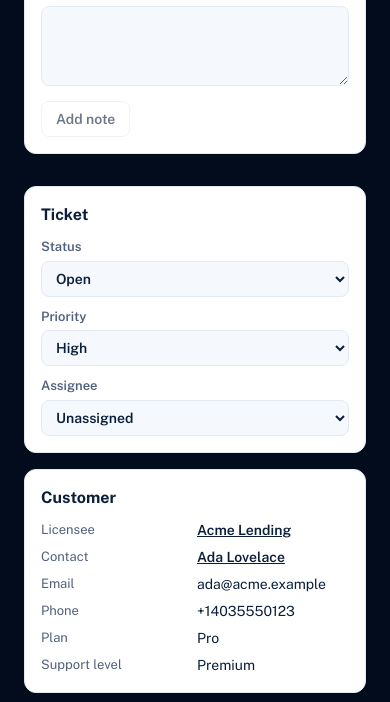
Test: a Keystone support ticket › assigns, changes status, replies by SMS and adds an internal note
(page scrolled)
Select "Kim Keystone" in the dropdown named "Ticket assignee": [195, 418] box x1=41 y1=400 x2=349 y2=436
(page scrolled)
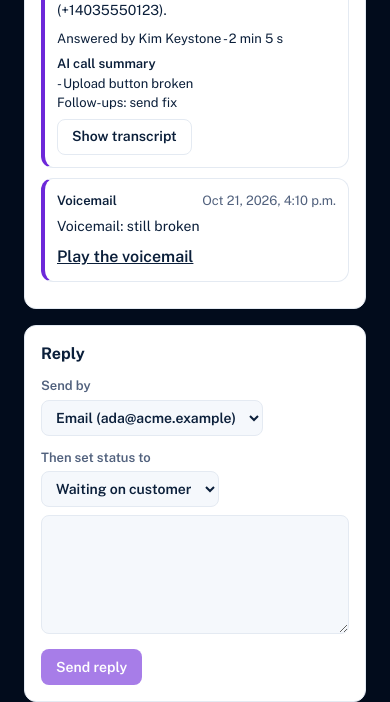
Select "SMS (+14035550123)" in the dropdown labelled "Send by": [152, 418] box x1=41 y1=400 x2=263 y2=436
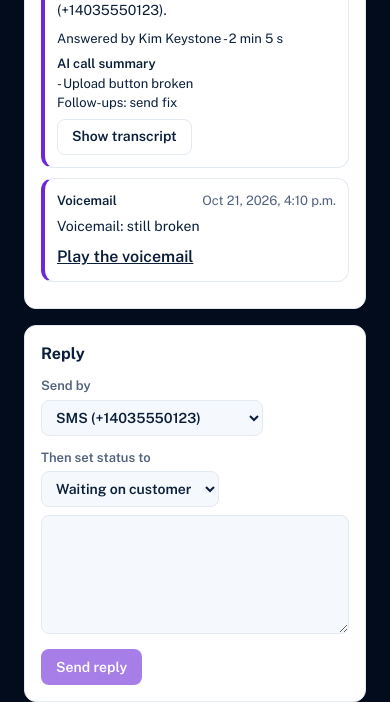
In the text box named "Reply": [195, 574] box x1=41 y1=515 x2=349 y2=634, type "Fixed - please try again"
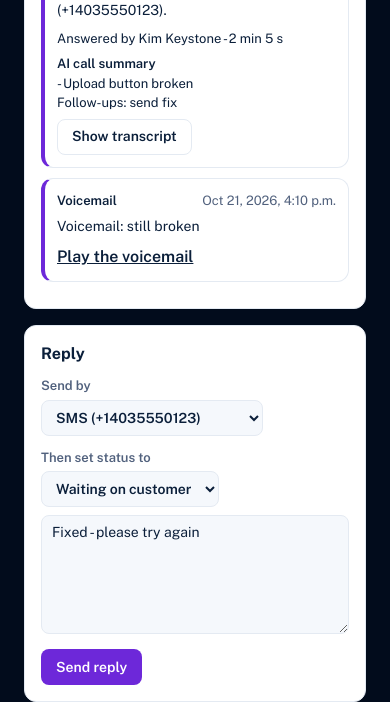
Click the button with test id "ks-send-reply": [92, 667] box x1=41 y1=649 x2=142 y2=685
(page scrolled)
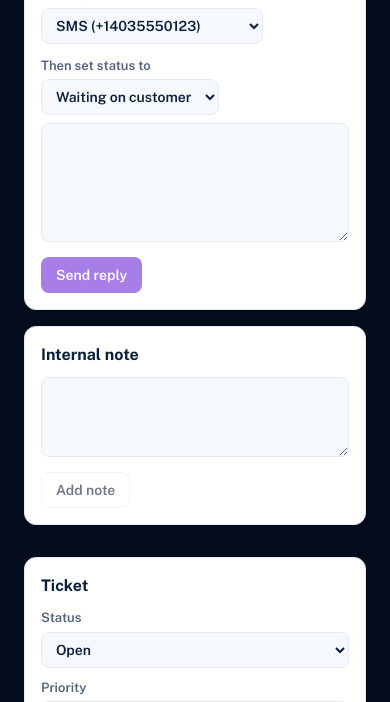
In the text box named "Internal note": [195, 417] box x1=41 y1=377 x2=349 y2=457, type "Checked the logs"
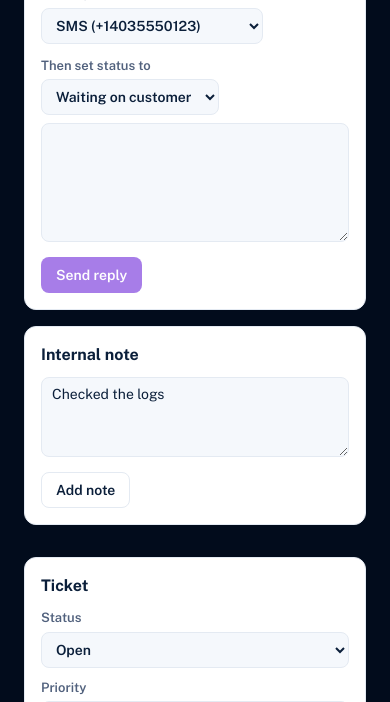
Click the button with test id "ks-add-note": [86, 490] box x1=41 y1=472 x2=130 y2=508
(page scrolled)
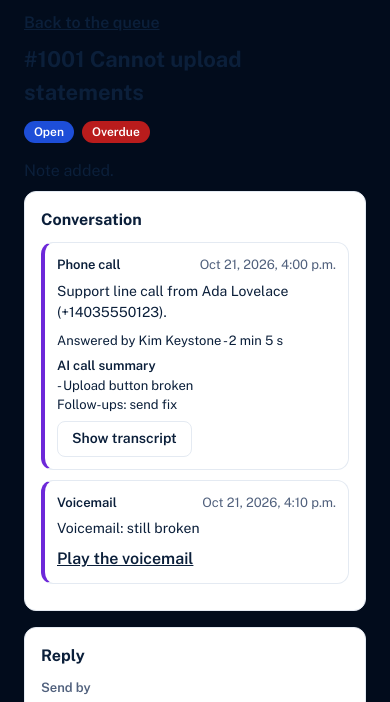
Expected: the text "Note added." is shown, x1=24 y1=161 x2=114 y2=180
